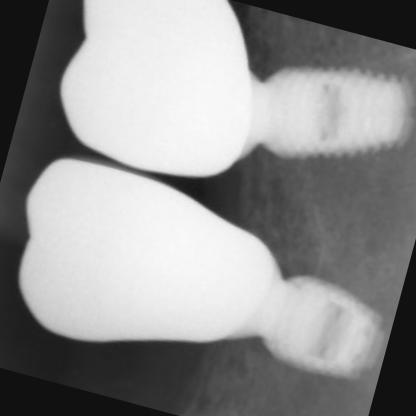Bicon: (244, 43, 415, 191), (258, 268, 392, 395)
